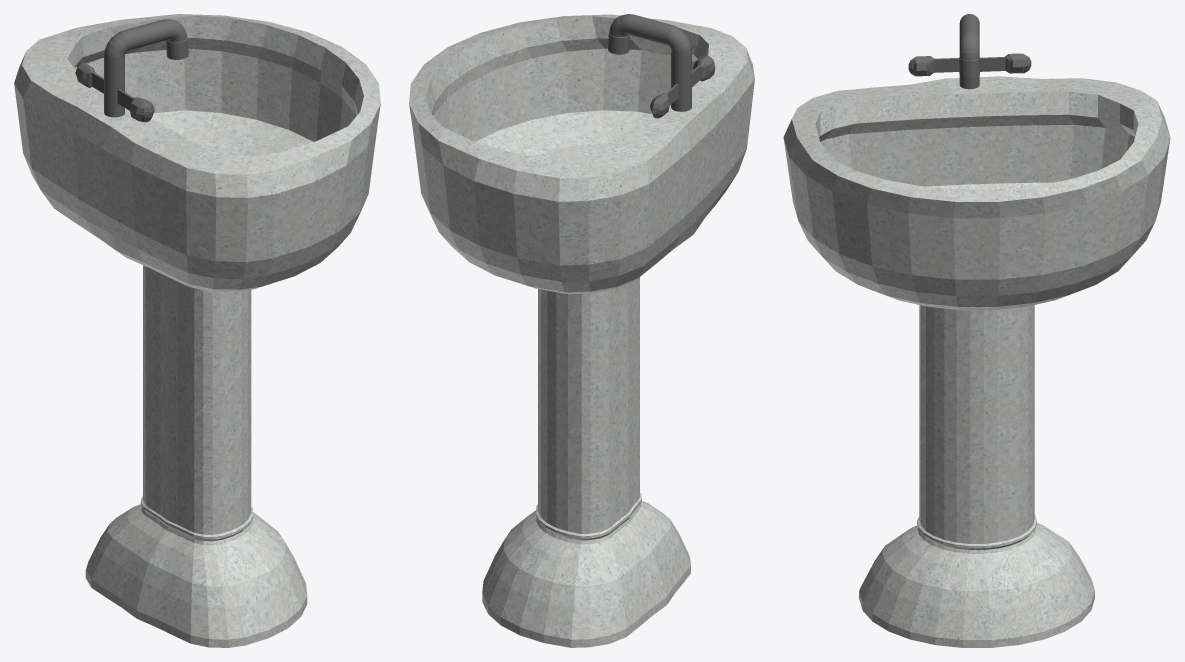
The model's file is lavabo.fbx.
The picture shows the model from 3 angles, left to right: view 1: azimuth 30°, elevation 25°; view 2: azimuth 150°, elevation 25°; view 3: azimuth 270°, elevation 25°; orthographic projection. The views are drawn at different scales.
Parts seen in each view (by area): view 1: sink:Mesh; view 2: sink:Mesh; view 3: sink:Mesh.
Part boxes in pixels (x1=…): sink:Mesh: x1=14, y1=14, x2=380, y2=647; sink:Mesh: x1=409, y1=14, x2=754, y2=647; sink:Mesh: x1=783, y1=14, x2=1170, y2=647.
Size of the model in its own units: 1.99 by 4.1 by 2.59.
Materials: 2 (1 with a texture image).
